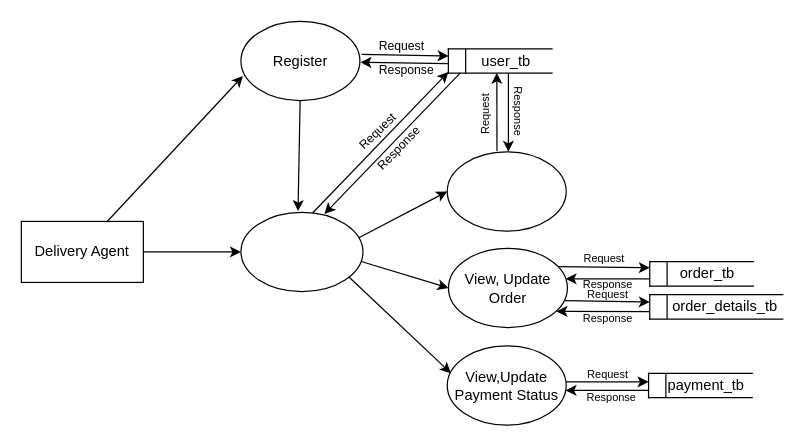
This 805x447 diagram has some shape labels left out. Here are the shapes that lost their labels. From the top down, the centre of each, then its label:
point (506, 191): View, Update Profile
point (301, 251): Login
